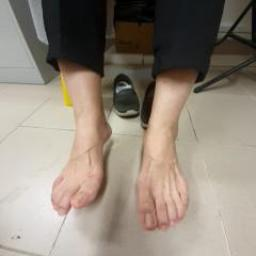Dorsal View -Both Feet-: (27, 62, 226, 249)
